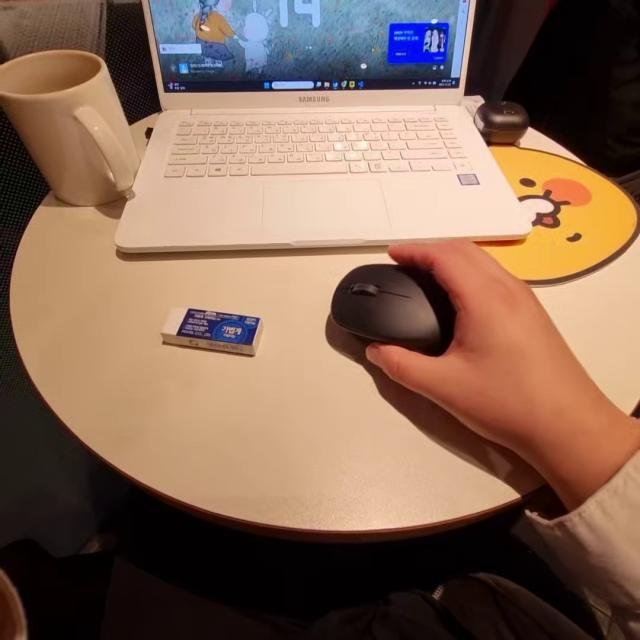eraser: (146, 300, 274, 354)
grab_mouse: (336, 235, 640, 467)
hand: (409, 243, 577, 435)
mouse: (306, 254, 442, 342)
